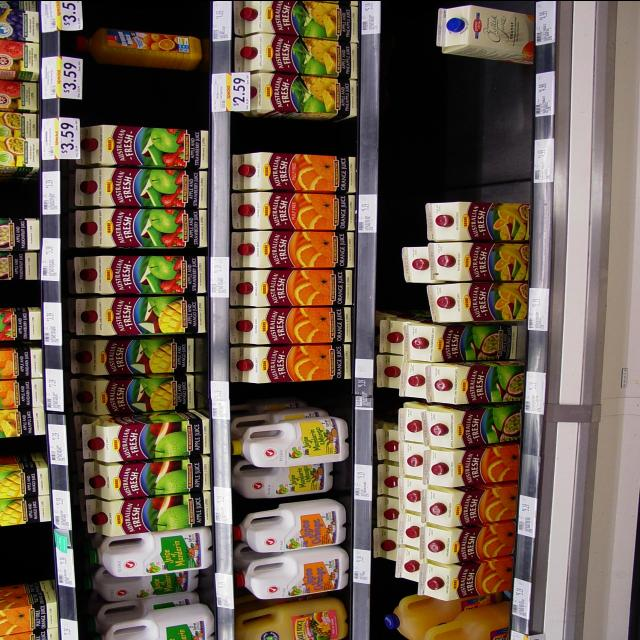empty_space: (392, 62, 523, 192), (104, 70, 208, 114), (243, 380, 331, 416), (245, 122, 347, 148), (107, 0, 209, 18)
